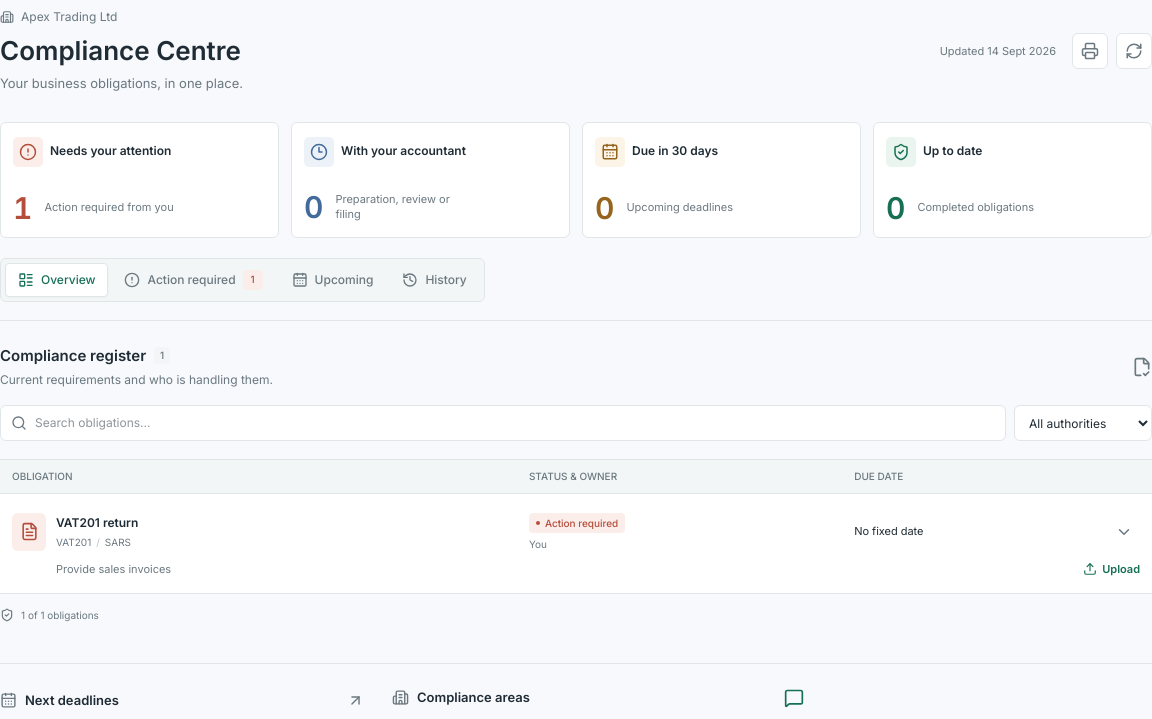
Test: ClientComplianceCentrePage › shows the obligation workflow details
Expected: the text "VAT201" is shown, [56, 535, 91, 550]
Step 1. Click the button named "View" → (1124, 532), box [1110, 518, 1138, 546]
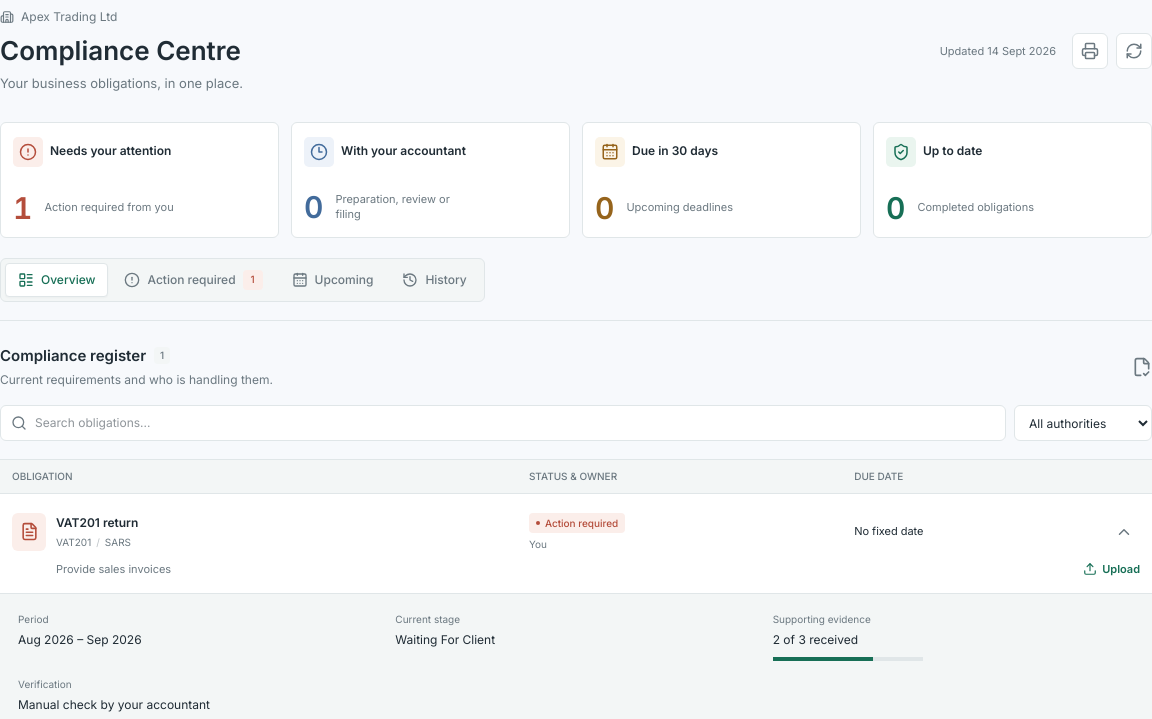
Expected: the text "Supporting evidence" is shown, [773, 613, 871, 625]
Expected: the text "2 of 3 received" is shown, [773, 632, 858, 647]
Expected: the text "Waiting For Client" is shown, [395, 632, 495, 647]
Step 2. Click the button named "Close" → (1124, 532), box [1110, 518, 1138, 546]
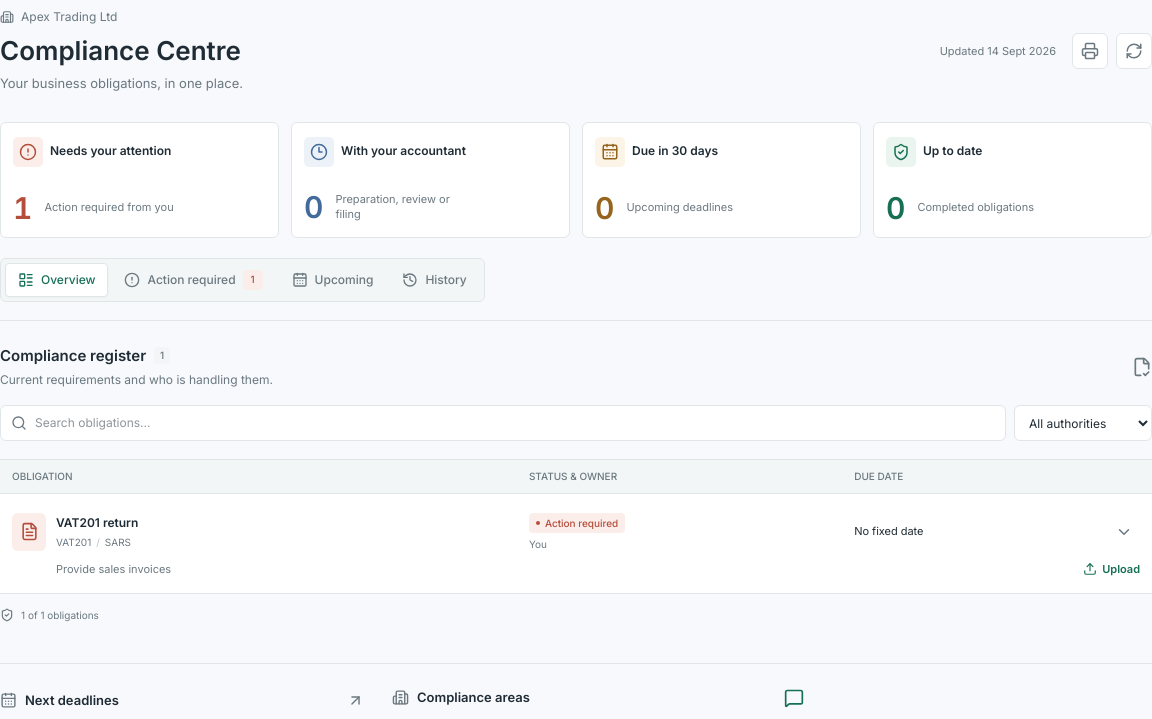
Expected: the text "Supporting evidence" is gone
